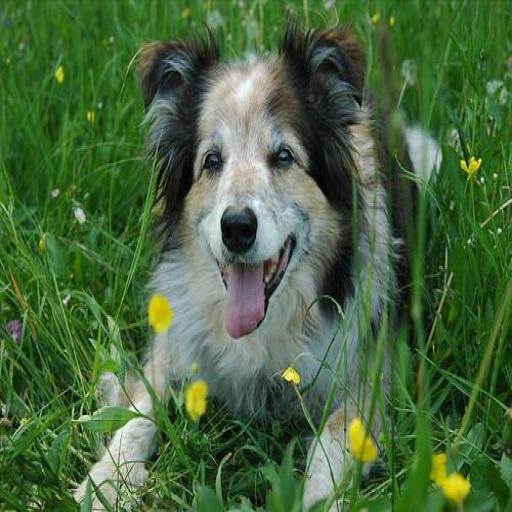dog_face: (140, 28, 374, 321)
